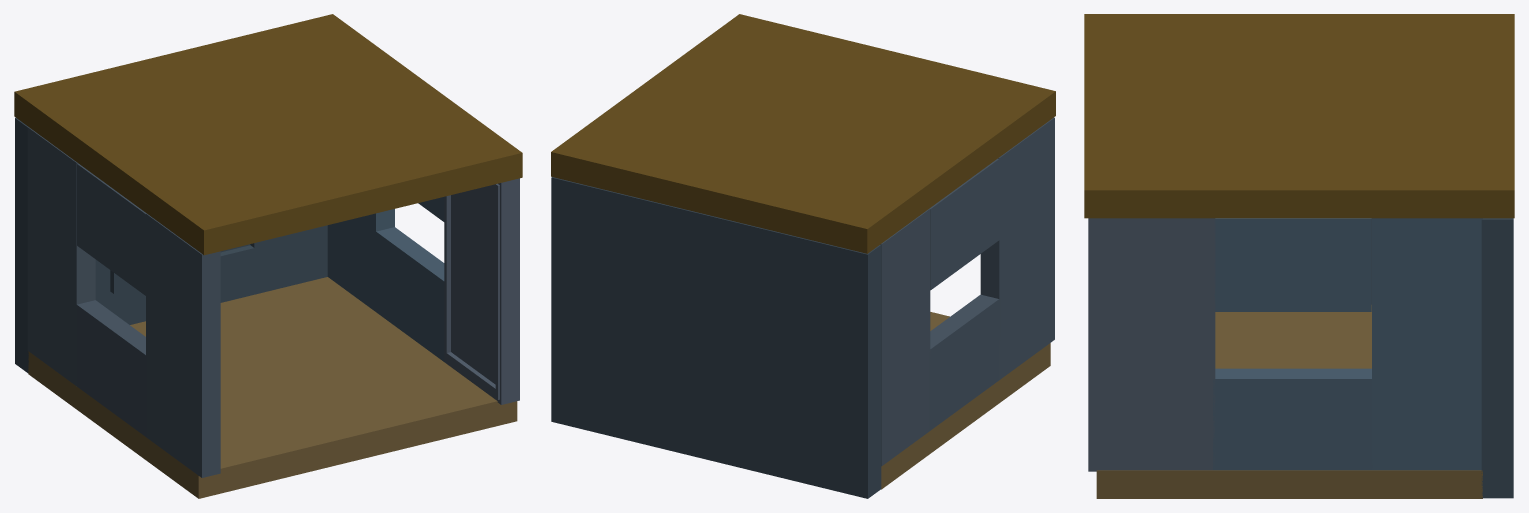
The model's file is Lab.fbx.
3 renders of one model, left to right at view 1: azimuth 30°, elevation 25°; view 2: azimuth 150°, elevation 25°; view 3: azimuth 270°, elevation 25°, orthographic. The views are drawn at different scales.
Visible parts, largest first — view 1: Cube.004, Cube, Cube.010, Cube.002, Cube.009, Cube.003, Cube.008, Cube.006, Cube.001, Cube.005; view 2: Cube.003, Cube.004, Cube.010, Cube.009, Cube.008, Cube.001, Cube; view 3: Cube.004, Cube.002, Cube.005, Cube, Cube.006, Cube.007, Cube.003.
Part boxes in pixels (x1,y1,x2,y2): Cube.004: [14, 14, 522, 255]; Cube: [28, 277, 517, 498]; Cube.010: [146, 213, 220, 477]; Cube.002: [444, 178, 519, 404]; Cube.009: [27, 127, 95, 385]; Cube.003: [15, 117, 327, 372]; Cube.008: [76, 300, 146, 437]; Cube.006: [375, 227, 446, 362]; Cube.001: [77, 163, 146, 295]; Cube.005: [327, 209, 394, 311]; Cube.003: [551, 177, 881, 498]; Cube.004: [551, 14, 1055, 253]; Cube.010: [980, 117, 1054, 379]; Cube.009: [880, 208, 930, 466]; Cube.008: [929, 294, 1000, 430]; Cube.001: [930, 158, 999, 290]; Cube: [881, 312, 1050, 489]; Cube.004: [1084, 14, 1514, 218]; Cube.002: [1088, 218, 1215, 471]; Cube.005: [1372, 218, 1482, 470]; Cube: [1096, 305, 1482, 498]; Cube.006: [1213, 368, 1373, 470]; Cube.007: [1214, 218, 1371, 311]; Cube.003: [1481, 218, 1513, 498].
Size of the model in its own units: 1431 by 1168 by 1474.
